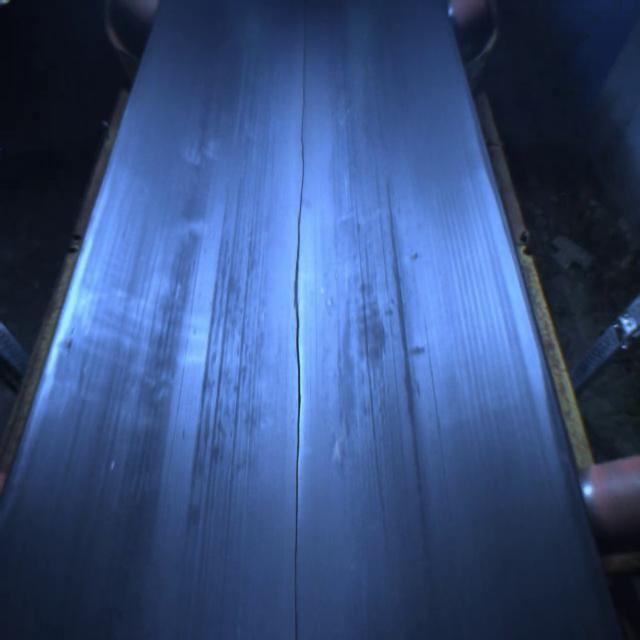Tear: (286, 0, 321, 636)
